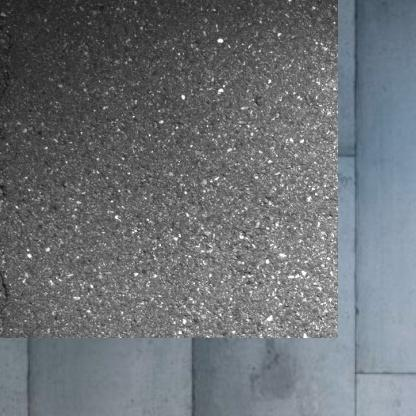Cracks: (0, 0, 12, 141), (0, 157, 9, 294)
